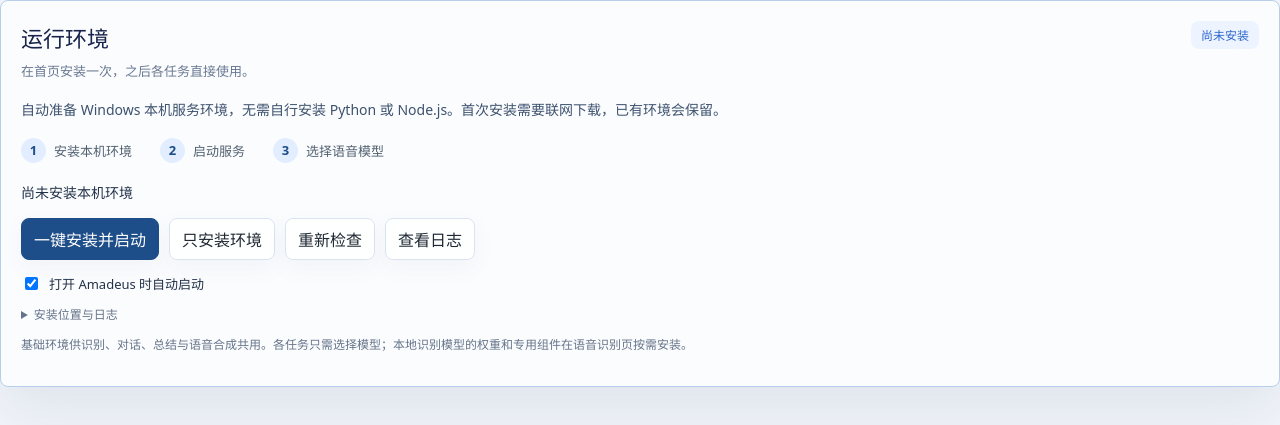
Test: Windows local environment setup › supports installing in advance without starting or changing remote server settings
The image size is (1280, 425).
Click the button "只安装环境".
click(222, 239)  # box [169,218,275,260]
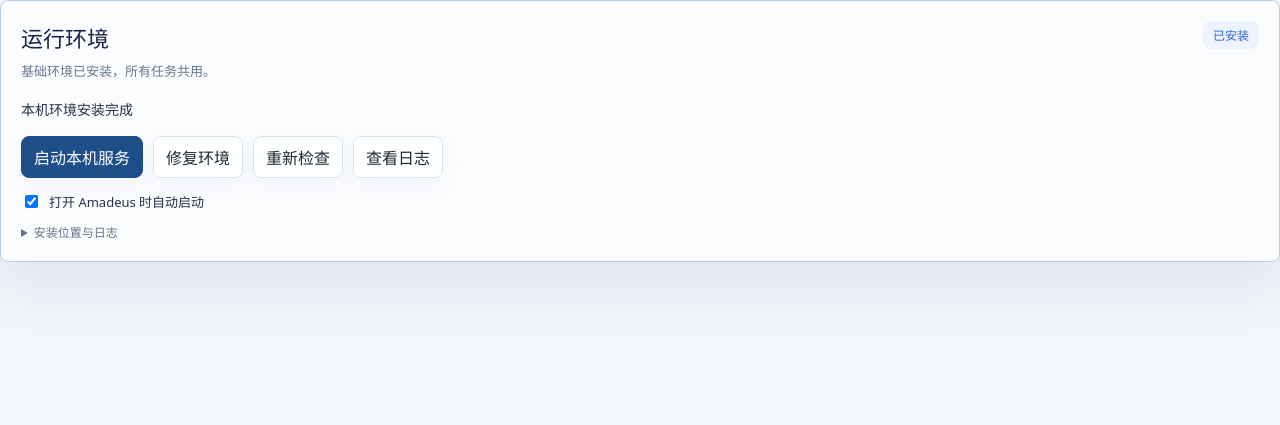
Expected: the button "启动本机服务" is shown, [21,136,143,178]
